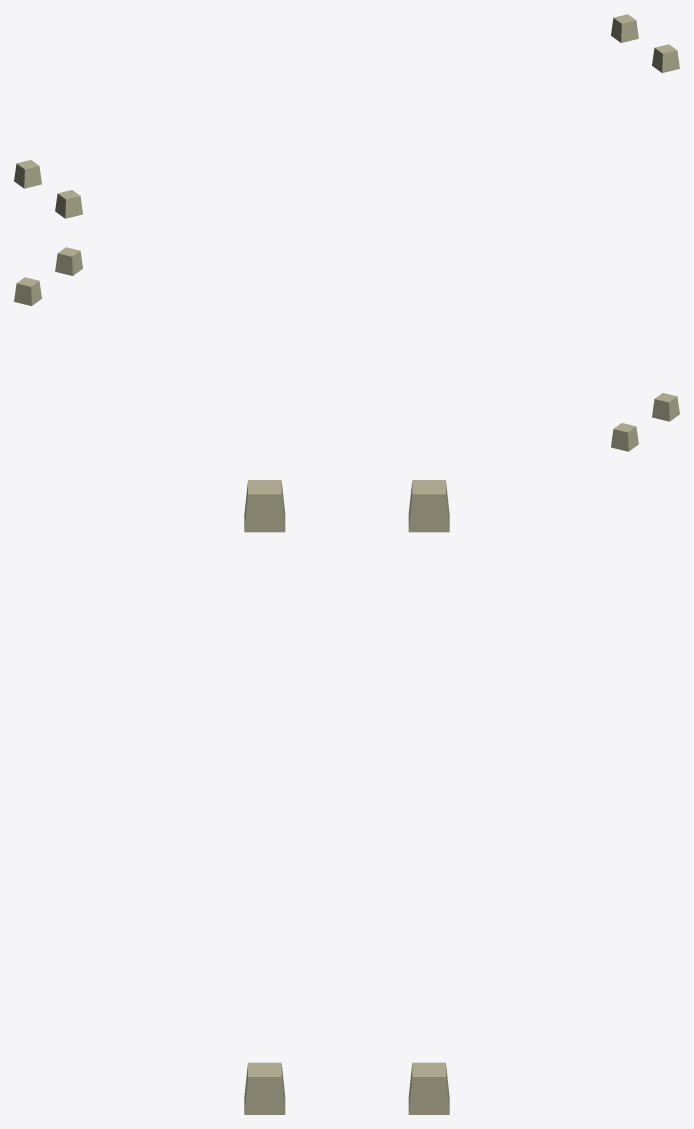
File: footbridge--pale-limestone.glb
3 renders of one model, top to bottom at view 1: azimuth 30°, elevation 25°; view 2: azimuth 150°, elevation 25°; view 3: azimuth 270°, elevation 25°, orthographic. The views are drawn at different scales.
Visible parts, largest first — view 1: footbridge; view 2: footbridge; view 3: footbridge.
Boxes of the visible parts, x1,y1,x2,y2 form: footbridge: (14,14,679,218); footbridge: (14,247,679,451); footbridge: (244,480,449,1114).
Bounding box in the file's own units: 15.9 × 0.45 × 2.3.
